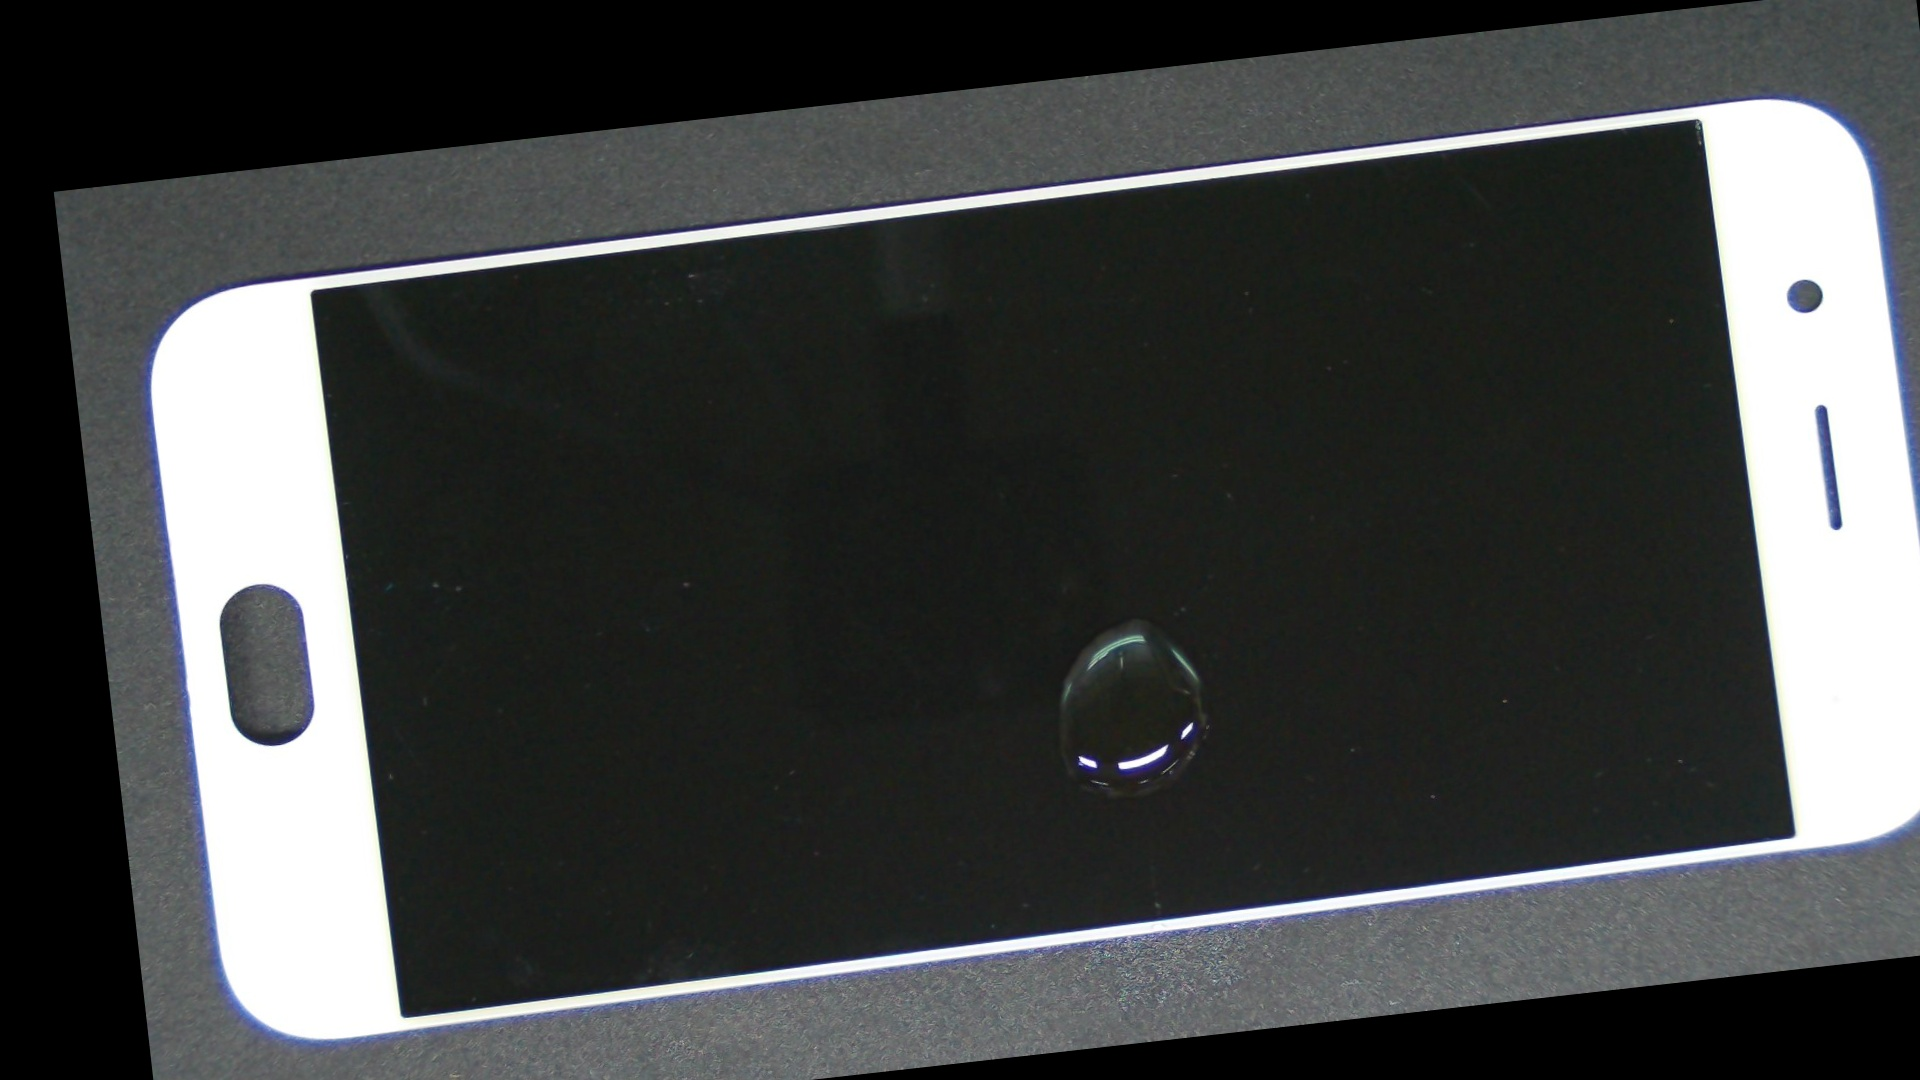oil: (592, 291, 1665, 948)
